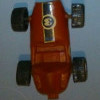rojo_norte: (12, 1, 86, 98)
